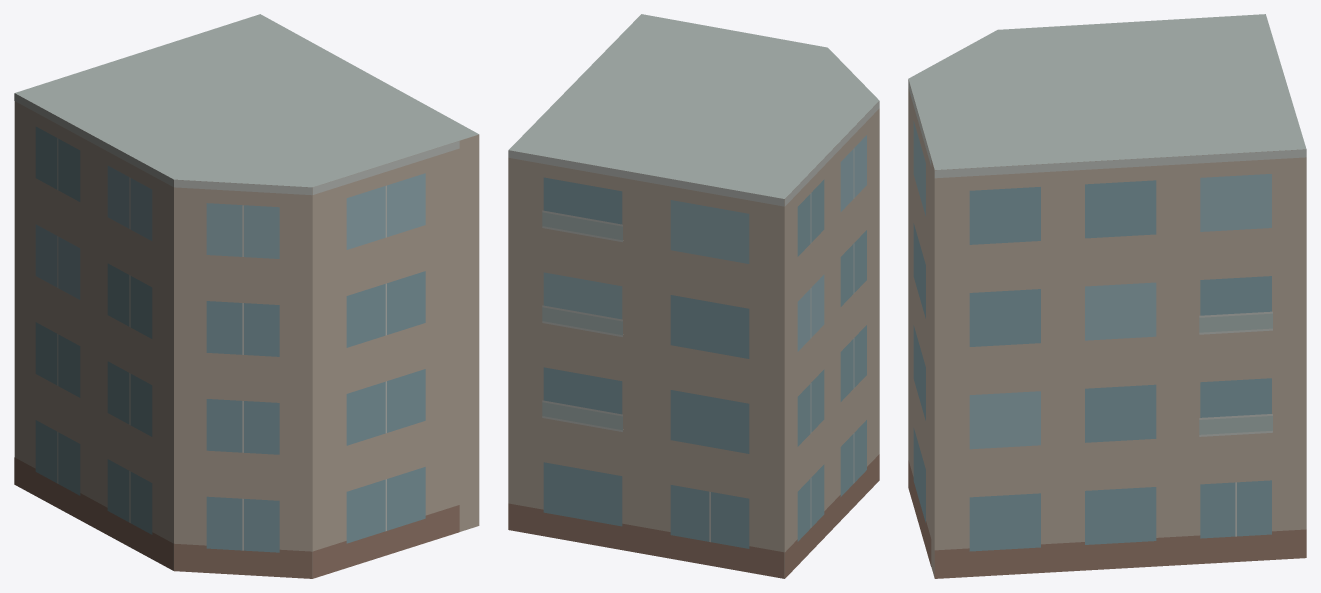
File: survey-upis-32849159.glb
3 renders of one model, left to right at view 1: azimuth 30°, elevation 25°; view 2: azimuth 150°, elevation 25°; view 3: azimuth 270°, elevation 25°, orthographic. The views are drawn at different scales.
Visible parts, largest first — view 1: survey-upis-32849159.tmp; view 2: survey-upis-32849159.tmp; view 3: survey-upis-32849159.tmp.
Boxes of the visible parts, x1,y1,x2,y2 form: survey-upis-32849159.tmp: (14, 14, 479, 578); survey-upis-32849159.tmp: (508, 14, 879, 578); survey-upis-32849159.tmp: (908, 14, 1306, 578).
Size of the model in its own units: 10 by 12.2 by 10.78.
